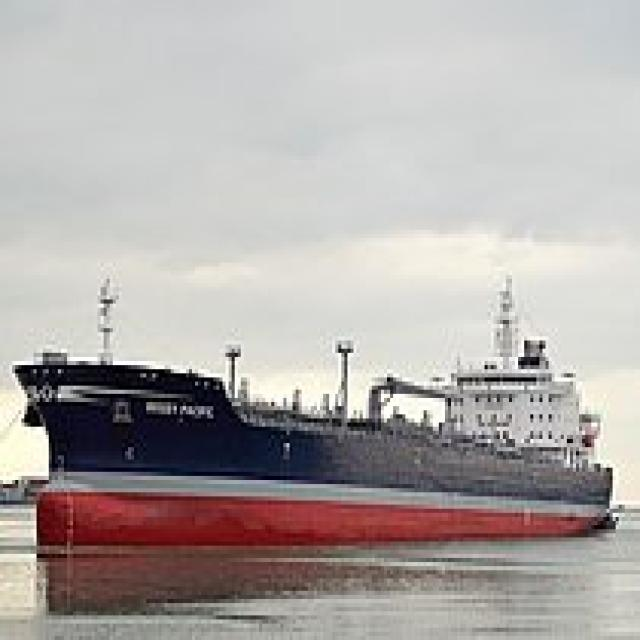Tanker: (6, 266, 613, 546)
